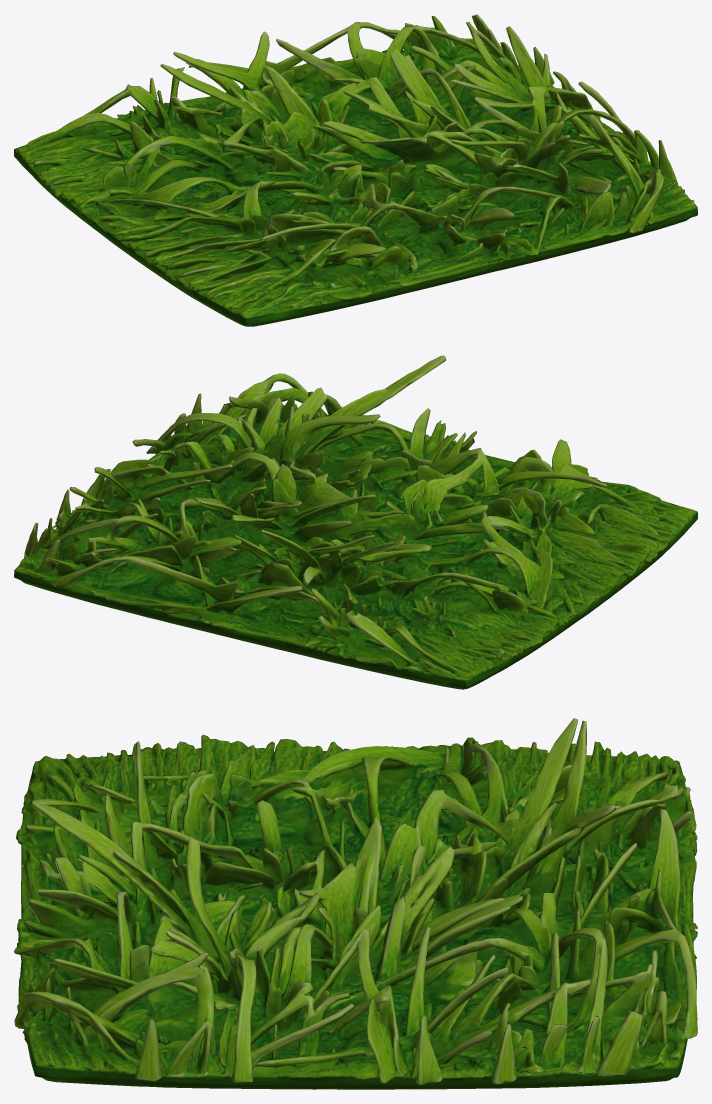
The model's file is grass-model.glb.
The picture shows the model from 3 angles, top to bottom: view 1: azimuth 30°, elevation 25°; view 2: azimuth 150°, elevation 25°; view 3: azimuth 270°, elevation 25°; orthographic projection. The views are drawn at different scales.
Parts seen in each view (by area): view 1: tripo_node_b88347f9-8fb8-48d9-948c-9e188fffee31; view 2: tripo_node_b88347f9-8fb8-48d9-948c-9e188fffee31; view 3: tripo_node_b88347f9-8fb8-48d9-948c-9e188fffee31.
Part boxes in pixels (x1,y1,x2,y2): tripo_node_b88347f9-8fb8-48d9-948c-9e188fffee31: [14, 14, 697, 326]; tripo_node_b88347f9-8fb8-48d9-948c-9e188fffee31: [14, 355, 697, 689]; tripo_node_b88347f9-8fb8-48d9-948c-9e188fffee31: [14, 718, 697, 1089].
Bounding box in the file's own units: 1 × 0.2117 × 0.8661.
Materials: 1 (1 with a texture image).
